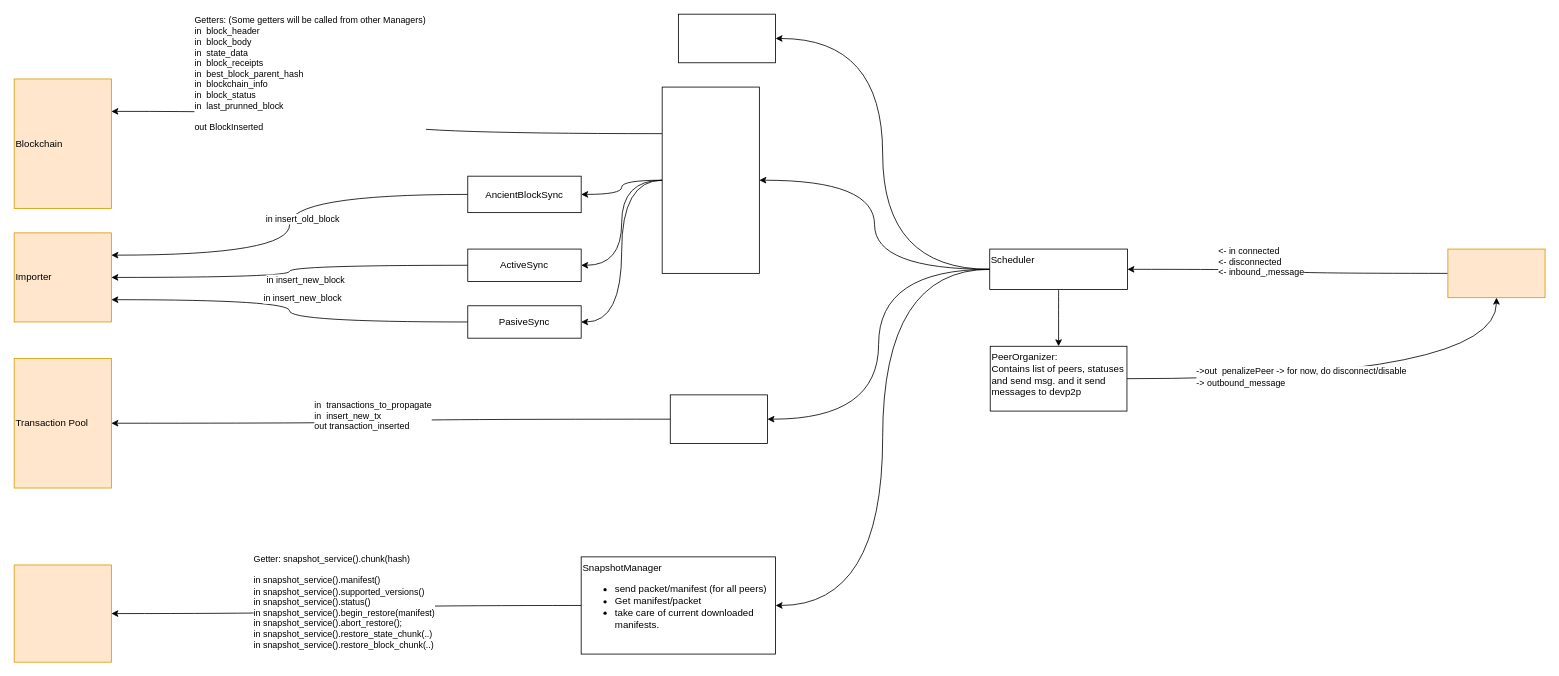
Image size: 1559x676. Some labels were removed from this diagram. The shapes that lost their labels are listed below. From the top down, each one's centre as x and y in pixels, then its label:
the point at 727,38: Handshake
the point at 710,179: BlockManager Take care of currently downloaded blocks
the point at 1496,273: devp2p
the point at 718,418: TransactionManager
the point at 62,613: Snapshot service
